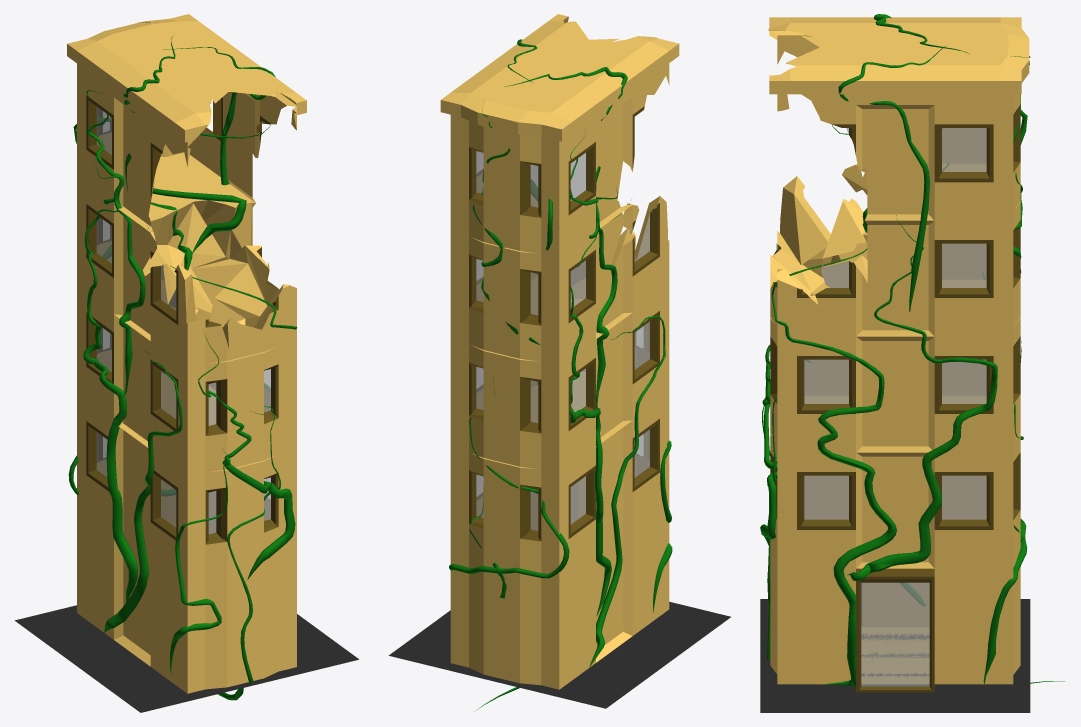
The model's file is center-slim-section.glb.
The picture shows the model from 3 angles, left to right: view 1: azimuth 30°, elevation 25°; view 2: azimuth 150°, elevation 25°; view 3: azimuth 270°, elevation 25°; orthographic projection. The views are drawn at different scales.
Parts seen in each view (by area): view 1: Building3, VinesCurves.003, Roof3, Ground.003; view 2: Building3, Roof3, VinesCurves.003, Ground.003; view 3: Building3, Roof3, VinesCurves.003, Ground.003.
Part boxes in pixels (x1,y1,x2,y2): Building3: (77, 63, 297, 693); VinesCurves.003: (68, 22, 297, 700); Roof3: (67, 14, 306, 142); Ground.003: (14, 605, 358, 712); Building3: (450, 63, 669, 689); Roof3: (440, 14, 679, 141); VinesCurves.003: (449, 39, 672, 711); Ground.003: (388, 601, 730, 708); Building3: (769, 30, 1020, 692); Roof3: (768, 17, 1029, 94); VinesCurves.003: (760, 14, 1064, 686); Ground.003: (760, 599, 1030, 712).
Bounding box in the file's own units: 50 × 135 × 56.82.
